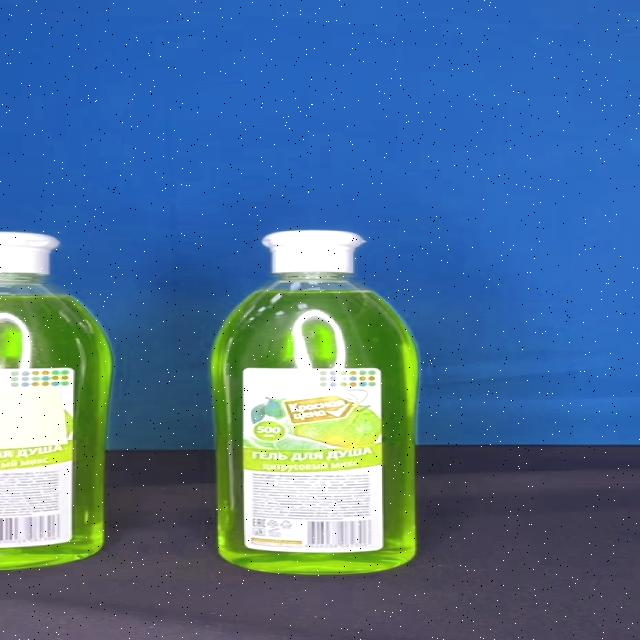Bottle: (212, 229, 420, 575)
Cap: (262, 230, 365, 274)
